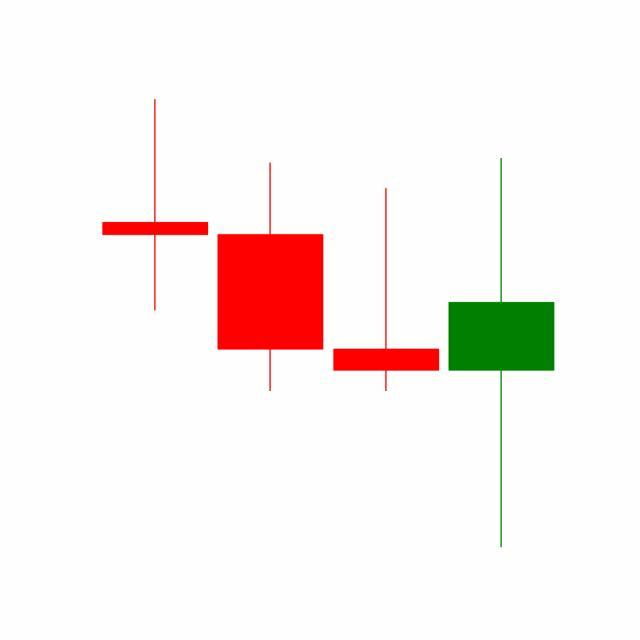Spinning Top: (444, 155, 560, 553)
